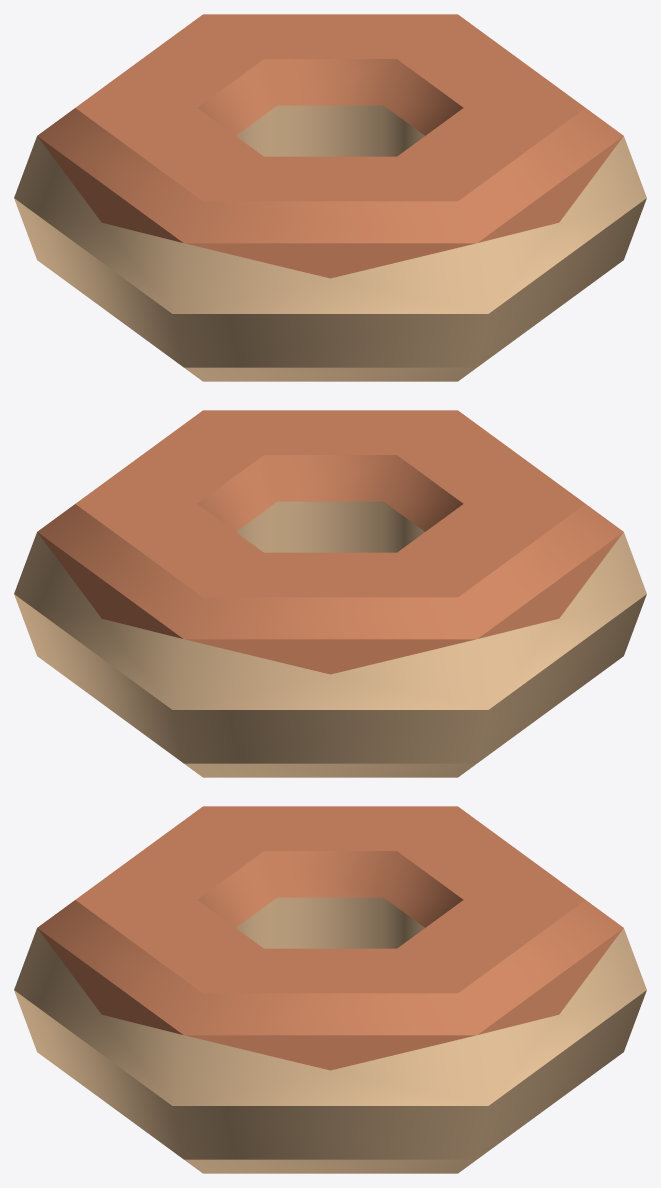
The model's file is Donut Chocolate.glb.
3 views of the same model, one above another, from view 1: azimuth 30°, elevation 25°; view 2: azimuth 150°, elevation 25°; view 3: azimuth 270°, elevation 25° (orthographic).
Parts seen in each view (by area): view 1: Donut Chocolate; view 2: Donut Chocolate; view 3: Donut Chocolate.
Part boxes in pixels (bbox=[...]): Donut Chocolate: bbox=[14, 14, 646, 381]; Donut Chocolate: bbox=[14, 410, 646, 777]; Donut Chocolate: bbox=[14, 806, 646, 1173].
Size of the model in its own units: 0.2451 by 0.0889 by 0.283.
